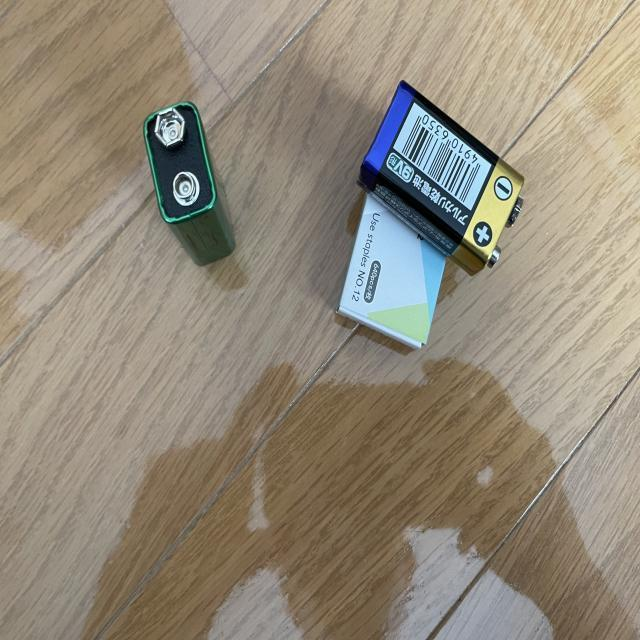9V: (358, 78, 524, 275), (143, 101, 237, 267)
